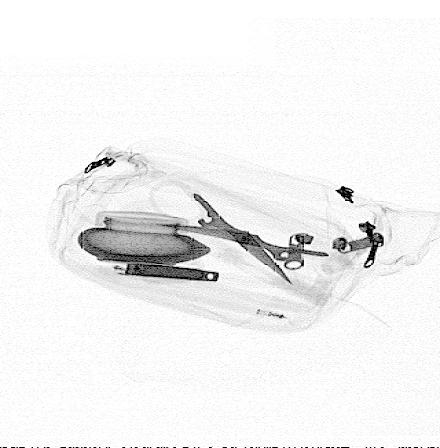Scissors: (148, 180, 366, 289)
